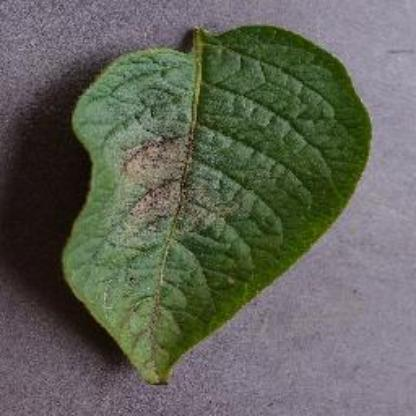Late-Blight: (56, 20, 378, 388)
